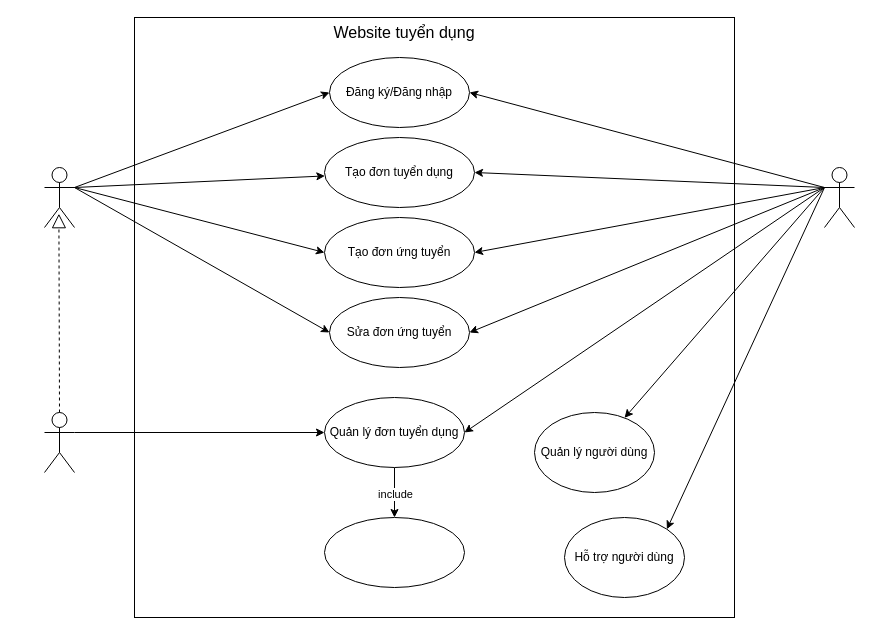
Image size: 874x635. Some labels were removed from this diagram. The centre of each missing label's shape, as x and y in pixels:
"Admin" goes at (x=839, y=197).
"Người dùng" goes at (x=59, y=197).
"Nhà tuyển dụng" goes at (x=59, y=442).
"Quản lý đơn ứng tuyển" goes at (x=394, y=552).
